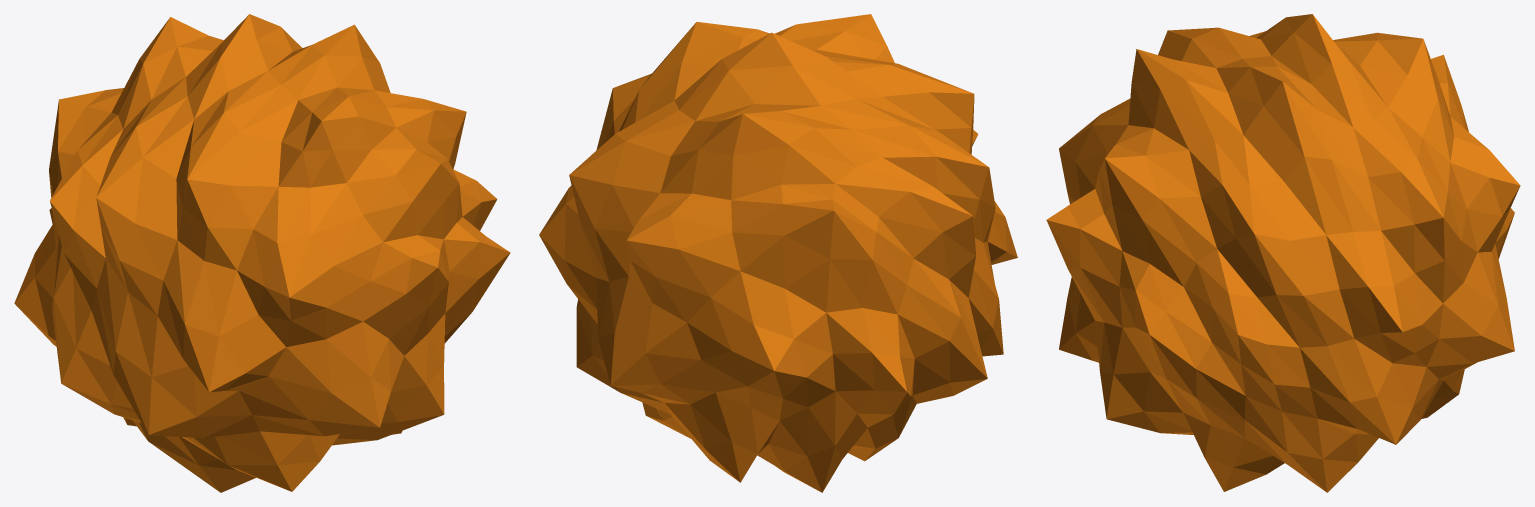
File: star.fbx
The picture shows the model from 3 angles, left to right: view 1: azimuth 30°, elevation 25°; view 2: azimuth 150°, elevation 25°; view 3: azimuth 270°, elevation 25°; orthographic projection. The views are drawn at different scales.
Parts seen in each view (by area): view 1: pSolid1; view 2: pSolid1; view 3: pSolid1.
Boxes of the visible parts, <box> form: pSolid1: <box>14,14,510,492</box>; pSolid1: <box>539,14,1017,492</box>; pSolid1: <box>1046,14,1520,492</box>.
Size of the model in its own units: 2.38 by 2.42 by 2.3.
